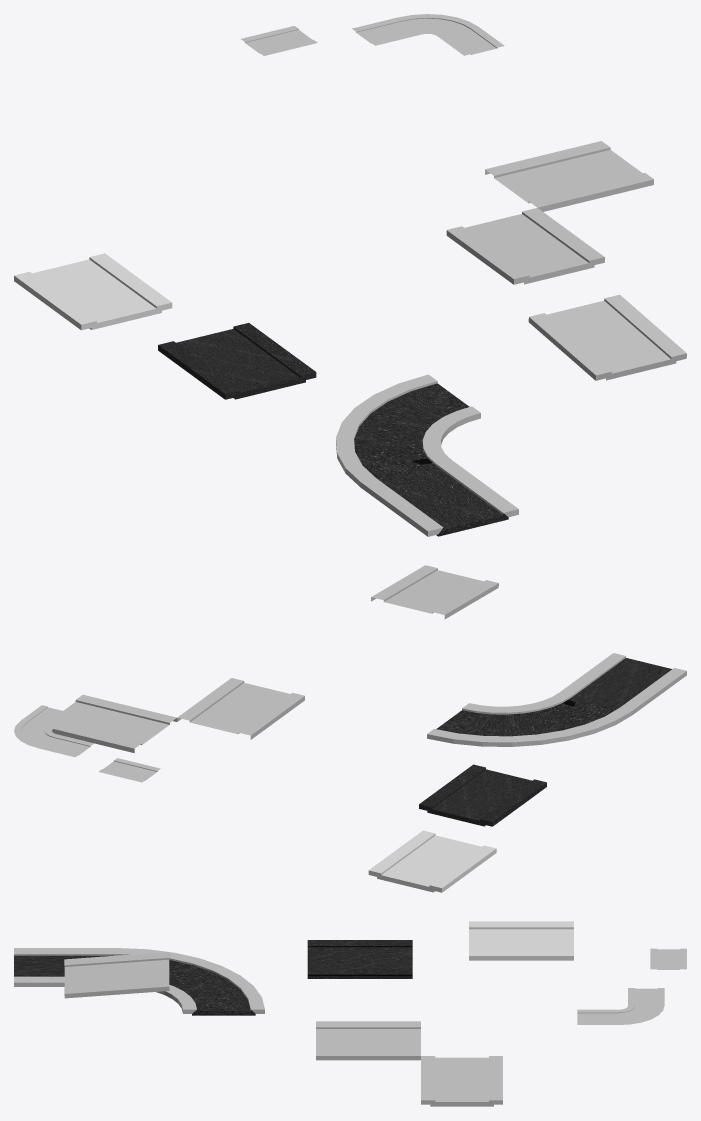
File: cesta_zavoj.fbx
The picture shows the model from 3 angles, top to bottom: view 1: azimuth 30°, elevation 25°; view 2: azimuth 150°, elevation 25°; view 3: azimuth 270°, elevation 25°; orthographic projection. The views are drawn at different scales.
Parts seen in each view (by area): view 1: ravna cesta, road.001, road.003, road, Plane, udesno, ravna_ravna; view 2: ravna cesta, road.001, Plane, road, road.003, udesno, ravna_ravna; view 3: road.001, ravna cesta, road.003, Plane, road, udesno, ravna_ravna.
Part boxes in pixels (x1,y1,x2,y2): ravna cesta: (336,374,518,536); road.001: (446,141,653,284); road.003: (528,294,686,380); road: (158,323,316,399); Plane: (14,253,172,330); udesno: (352,14,504,55); ravna_ravna: (241,26,317,55); ravna cesta: (427,653,686,746); road.001: (52,678,304,752); Plane: (368,830,496,892); road: (419,764,546,826); road.003: (371,565,498,619); udesno: (14,705,93,757); ravna_ravna: (99,758,160,782); road.001: (316,1021,502,1106); ravna cesta: (14,948,264,1015); road.003: (64,952,169,998); Plane: (469,921,573,960); road: (307,940,412,978); udesno: (577,988,664,1024); ravna_ravna: (650,948,686,969).
Size of the model in its own units: 33396 by 24271 by 5374.
